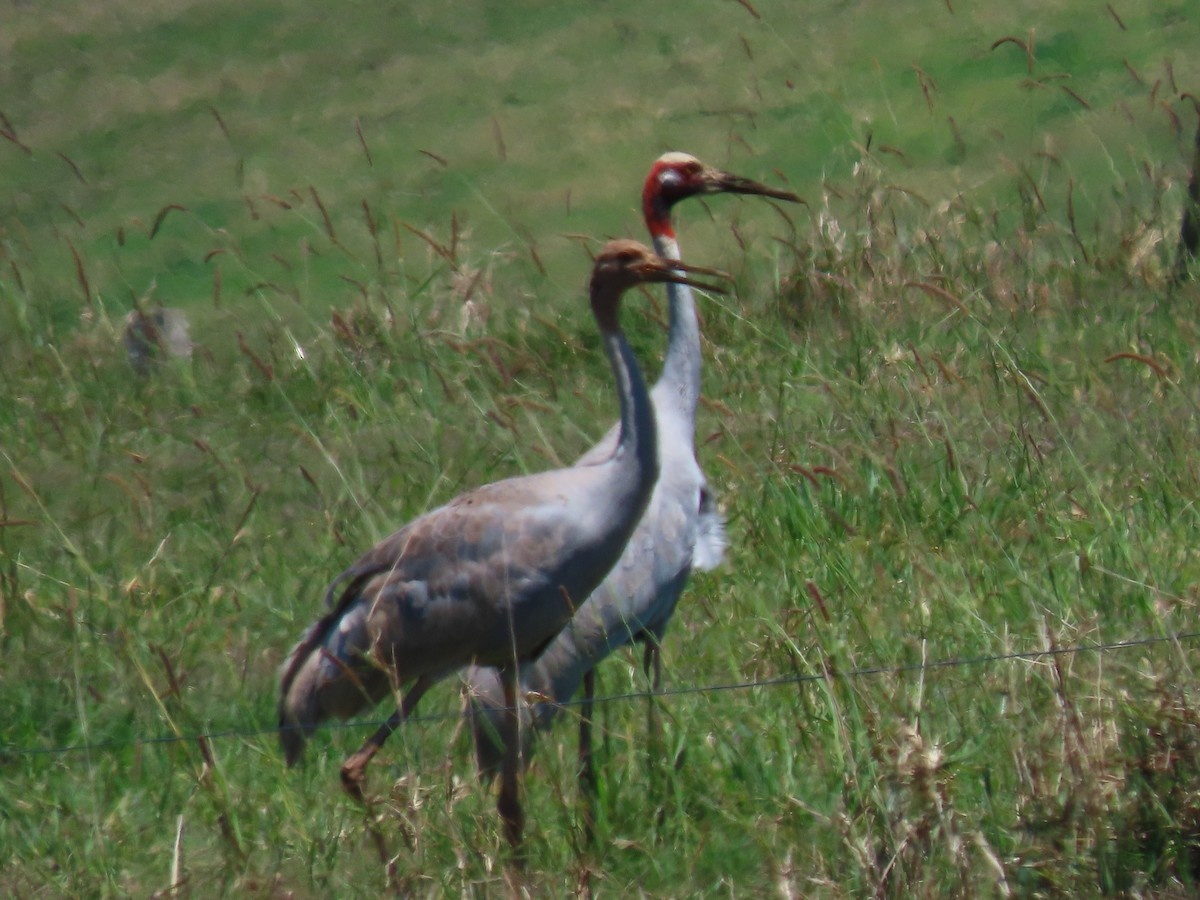crane: (288, 239, 735, 839), (643, 129, 795, 404)
